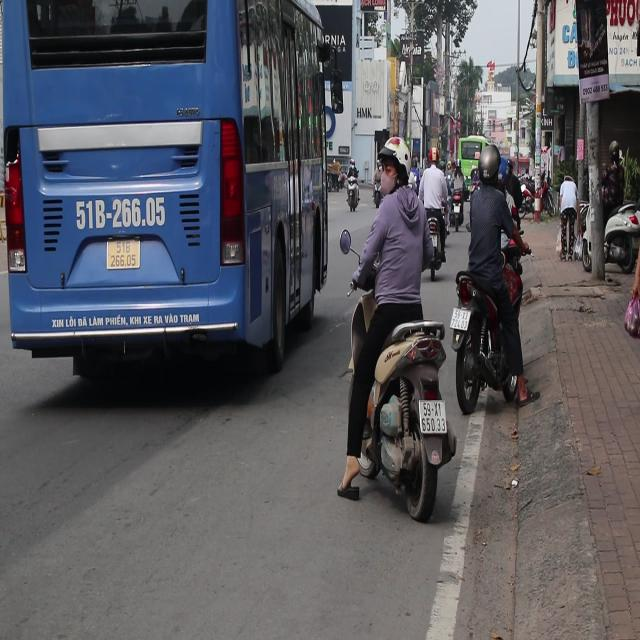bus: (0, 5, 333, 383), (458, 137, 489, 180)
car: (604, 196, 639, 274)
motorbike: (353, 304, 456, 524), (449, 272, 539, 411), (423, 204, 442, 268), (447, 194, 464, 230), (345, 182, 360, 212), (371, 178, 386, 203)
